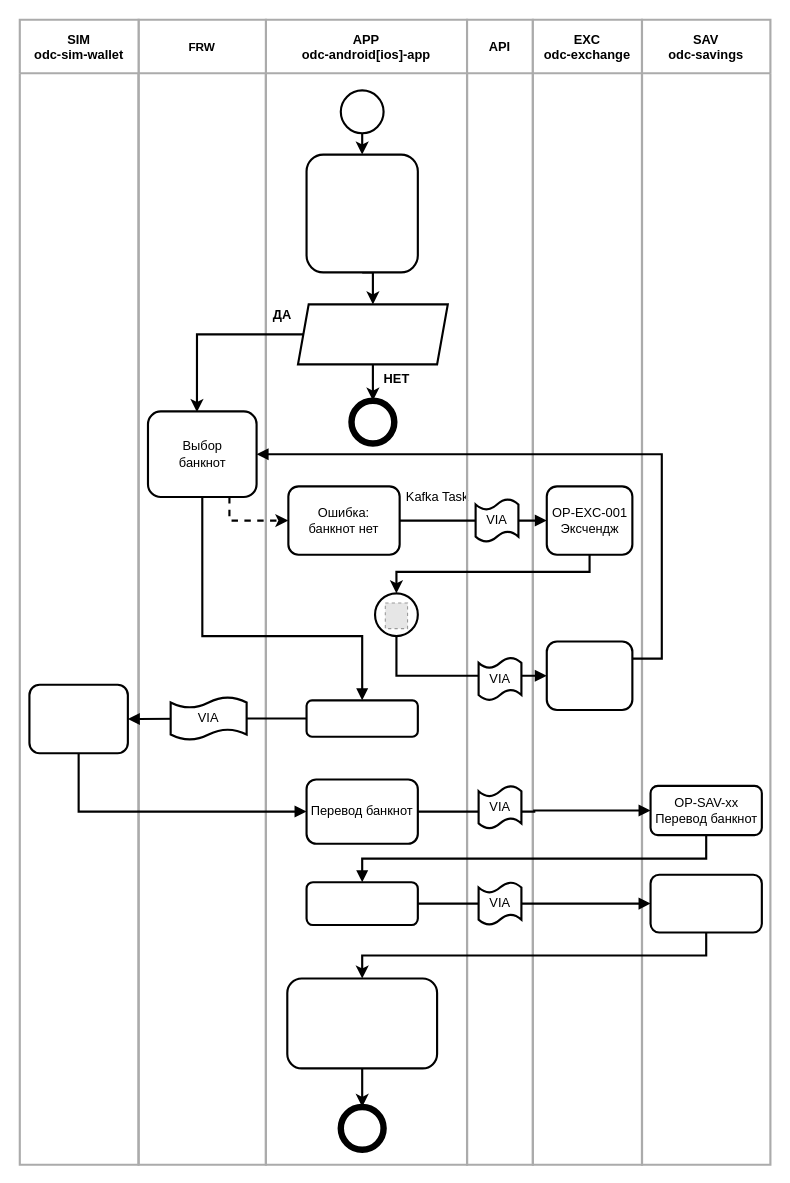
Some shapes in this 790 by 1183 pixel diagram are drawn without their labels. Grey dashed boxes stand in for pictures. The shapes that lost their labels are listed below. From the top down, each one's centre as x and y in pixels, then its label:
point 361,213: Определение суммы N, необходимые к переводу в сберегательную кассу
point 372,334: На кошельке есть сумма N?
point 589,675: OP-EXC-002 Эксчендж (ответ)
point 78,718: OP-SIM-xx Подпись банкнот
point 361,718: Подпись банкнот
point 361,903: Проверка баланса
point 705,903: OP-SAV-xx Проверка баланса
point 362,1023: Обновление информации о балансе в кошельке и балансе на сберегательном счету
